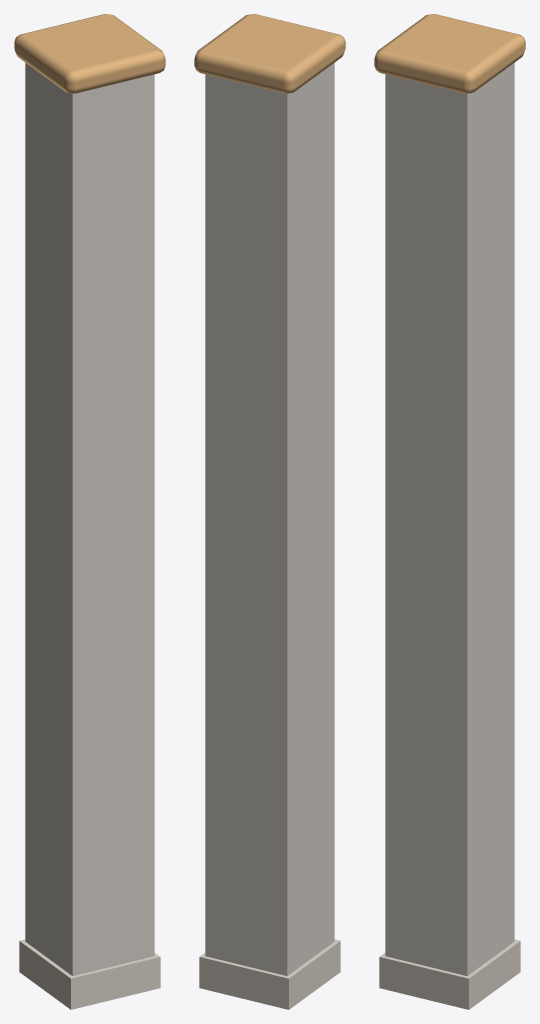
Rendered from pfosten_voll.glb.
3 renders of one model, left to right at view 1: azimuth 30°, elevation 25°; view 2: azimuth 150°, elevation 25°; view 3: azimuth 330°, elevation 25°, orthographic.
Visible parts, largest first — view 1: pfosten_voll; view 2: pfosten_voll; view 3: pfosten_voll.
Part boxes in pixels (left/top/right/bottom): pfosten_voll: left=14, top=14, right=165, bottom=1009; pfosten_voll: left=194, top=14, right=345, bottom=1009; pfosten_voll: left=374, top=14, right=525, bottom=1009.
Bounding box in the file's own units: 0.27 × 2.4 × 0.27.
